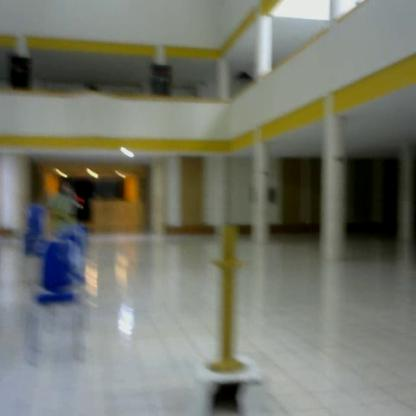pole: (201, 223, 261, 386)
